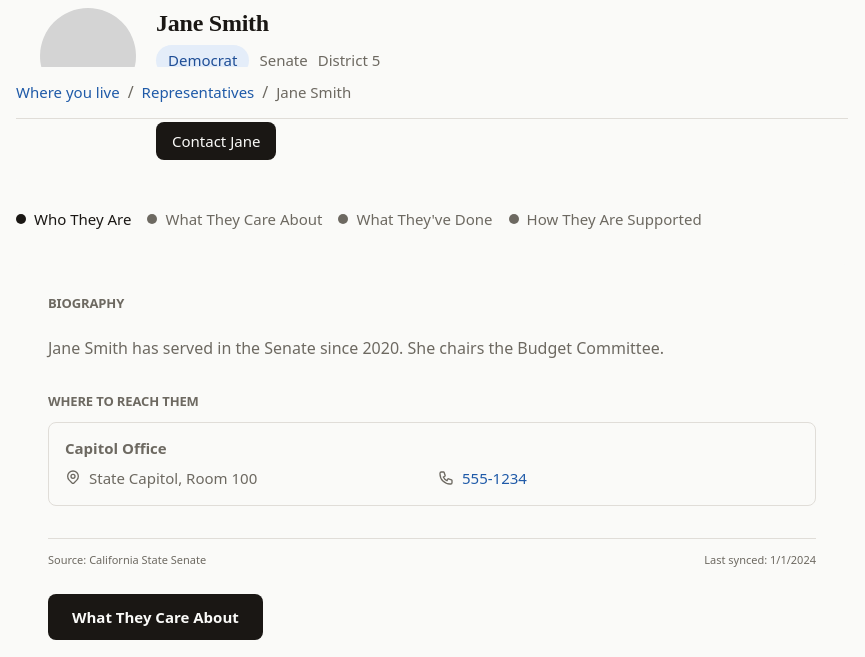
Scenario: RepresentativeDetailPage › layer content › What They Care About shows committees grouped by leadership
The image size is (865, 657).
(page scrolled)
What coordinates should you click on to do the following:
click the button "What They Care About" below "Source:"
I would click on:
 (155, 617)
Its box is [48, 594, 263, 640].
(page scrolled)
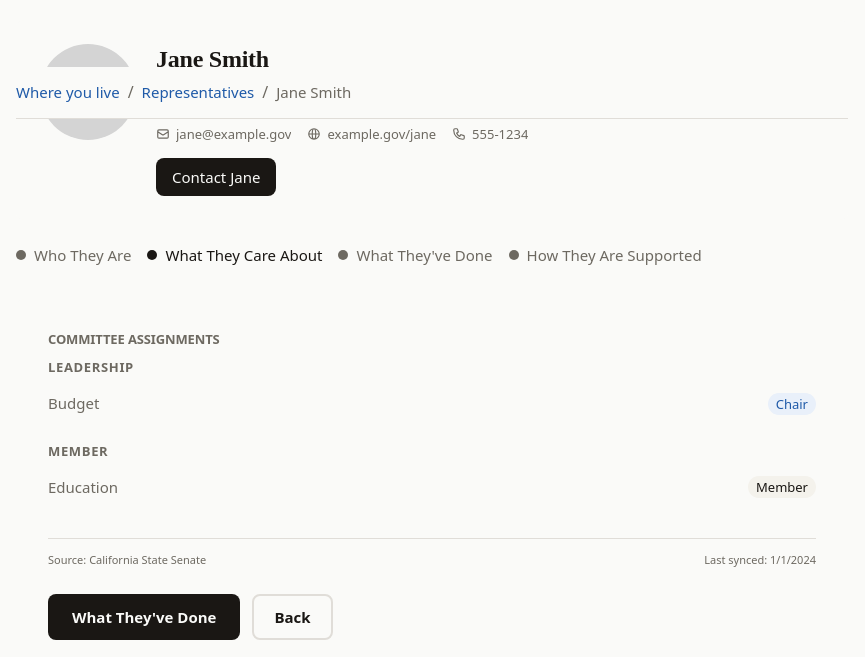
Expected: the text "Budget" is shown, [48, 392, 99, 415]
Now the heading "Leadership" is shown, box [48, 358, 134, 376]
Now the text "Education" is shown, box [48, 476, 118, 498]
